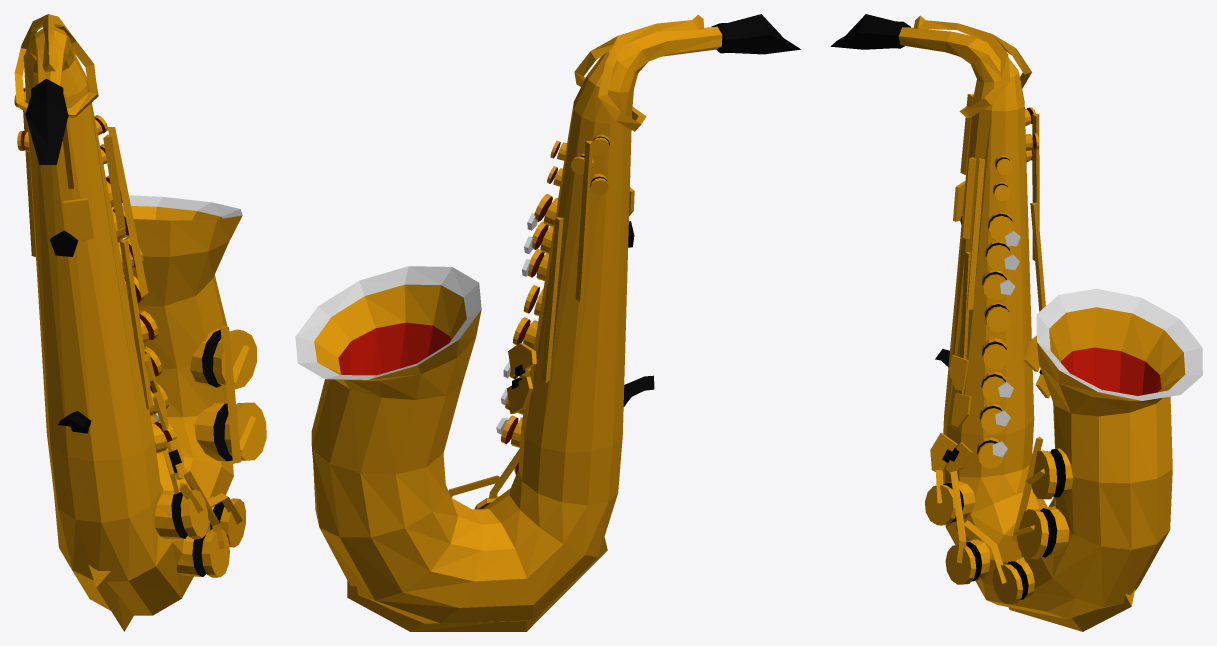
File: Trumpet.fbx
3 views of the same model, side by side, from view 1: azimuth 30°, elevation 25°; view 2: azimuth 150°, elevation 25°; view 3: azimuth 270°, elevation 25° (orthographic). The views are drawn at different scales.
Visible parts, largest first — view 1: model_0eOaQcH0l40_0; view 2: model_0eOaQcH0l40_0; view 3: model_0eOaQcH0l40_0.
Boxes of the visible parts, left/top/right/bottom form: model_0eOaQcH0l40_0: left=14, top=14, right=266, bottom=631; model_0eOaQcH0l40_0: left=295, top=14, right=800, bottom=631; model_0eOaQcH0l40_0: left=830, top=14, right=1202, bottom=631.
Size of the model in its own units: 0.0381 by 0.0661 by 0.0411.
